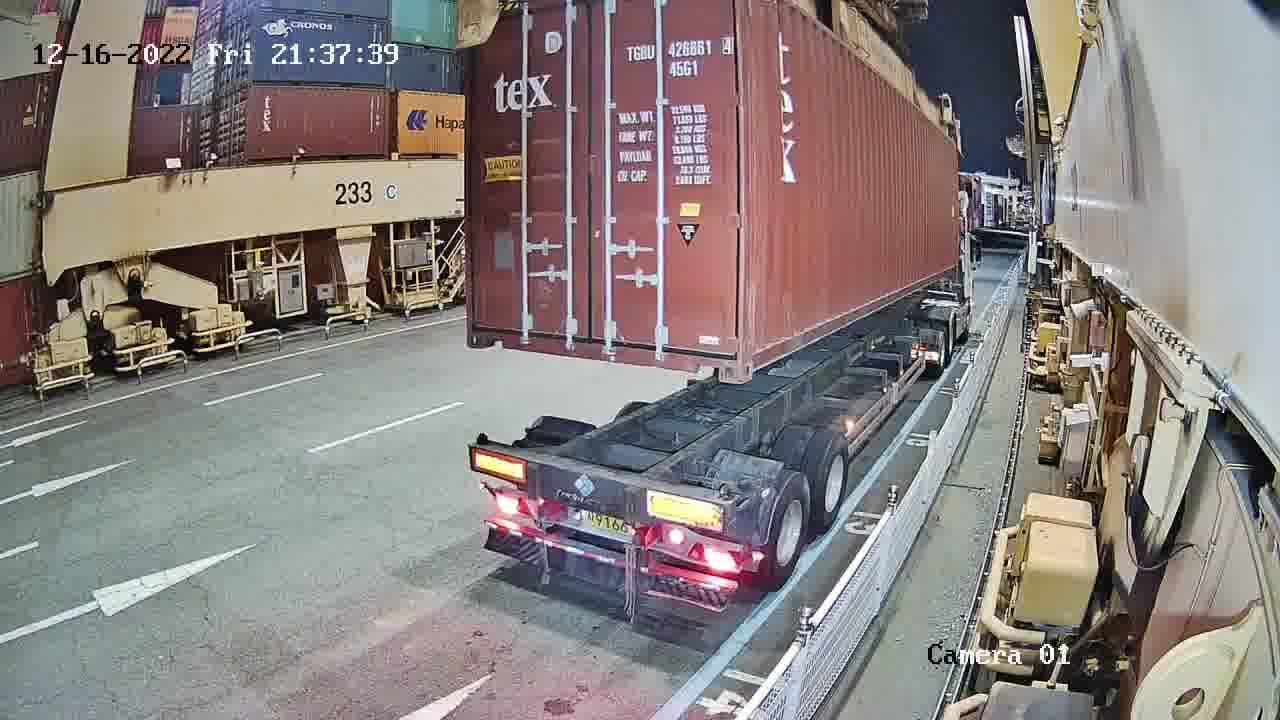Chassis: (470, 442, 740, 539)
Cone: (714, 480, 740, 533), (472, 433, 492, 478)
Hole_L: (739, 317, 783, 384), (466, 297, 516, 350)
Hole_R: (688, 323, 744, 384)
Tire: (768, 471, 811, 581), (816, 435, 851, 528), (885, 556, 901, 560)
